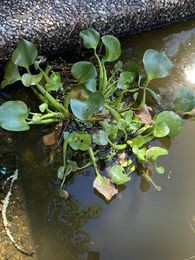water_hyacinth: (1, 22, 195, 199)
